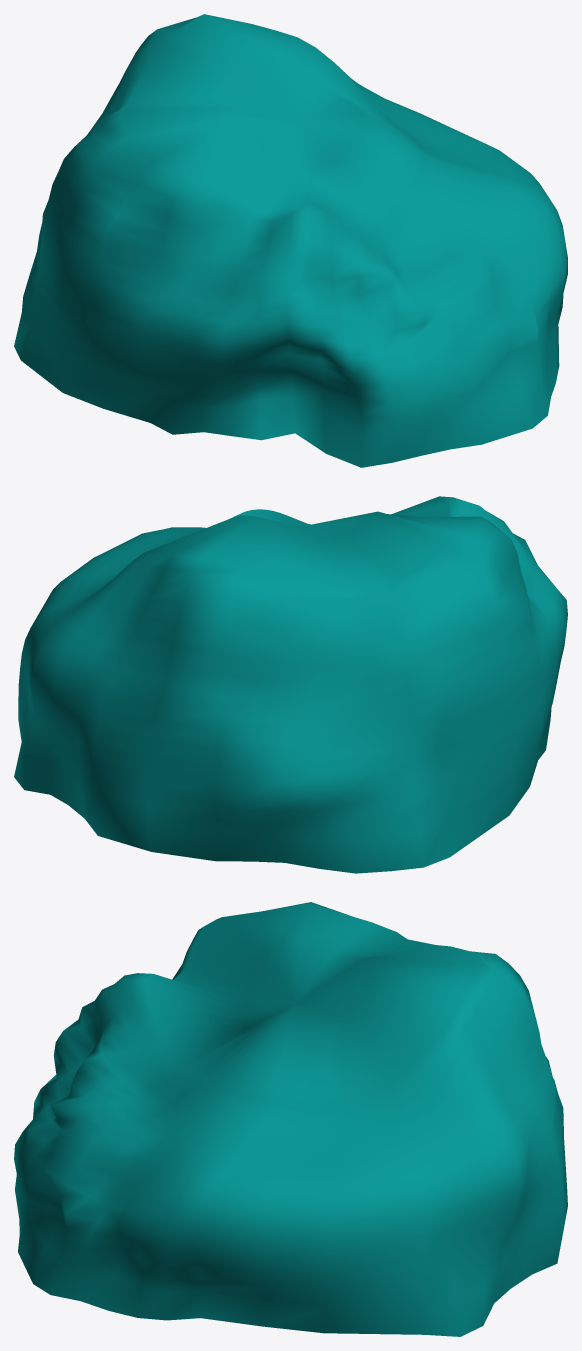
The model's file is fol_rock_01_uv.fbx.
The picture shows the model from 3 angles, top to bottom: view 1: azimuth 30°, elevation 25°; view 2: azimuth 150°, elevation 25°; view 3: azimuth 270°, elevation 25°; orthographic projection.
Visible parts, largest first — view 1: fol_rock_01; view 2: fol_rock_01; view 3: fol_rock_01.
Part boxes in pixels (bbox=[...]): fol_rock_01: bbox=[14, 14, 567, 467]; fol_rock_01: bbox=[14, 496, 567, 873]; fol_rock_01: bbox=[14, 902, 567, 1336].
Size of the model in its own units: 5.26 by 3.02 by 5.48.
